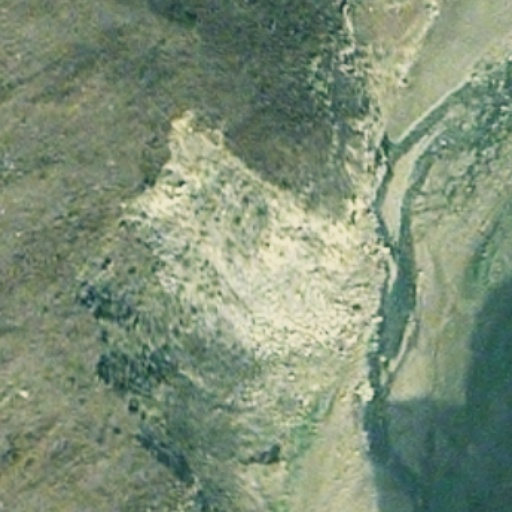landslide: (125, 113, 384, 360)
